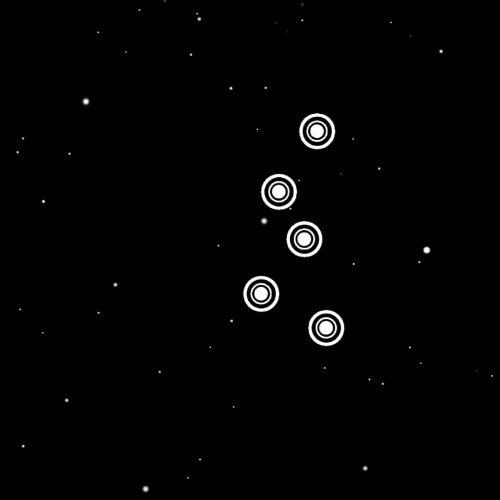cassiopeia: (218, 95, 375, 361)
